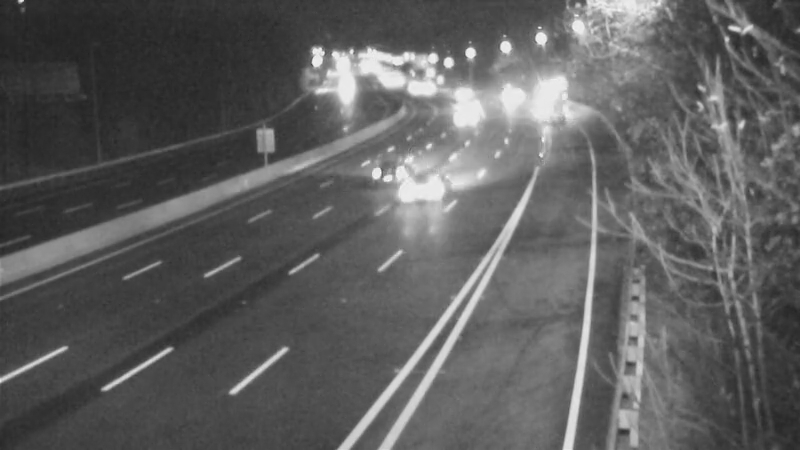vehicle: (360, 121, 440, 201), (389, 151, 469, 231), (485, 70, 535, 120), (437, 70, 487, 120), (445, 85, 495, 135), (444, 93, 494, 143), (519, 80, 569, 130)
